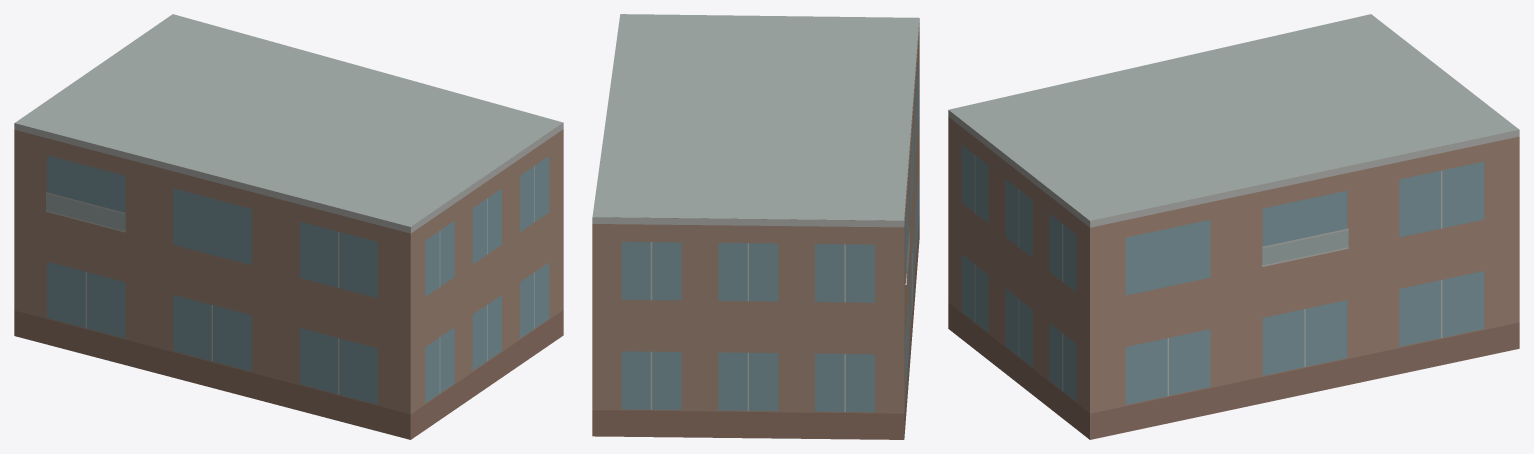
Rendered from survey-upis-33042357.glb.
The picture shows the model from 3 angles, left to right: view 1: azimuth 30°, elevation 25°; view 2: azimuth 150°, elevation 25°; view 3: azimuth 270°, elevation 25°; orthographic projection. The views are drawn at different scales.
Visible parts, largest first — view 1: survey-upis-33042357.tmp; view 2: survey-upis-33042357.tmp; view 3: survey-upis-33042357.tmp.
Part boxes in pixels (bbox=[...]): survey-upis-33042357.tmp: bbox=[14, 14, 563, 439]; survey-upis-33042357.tmp: bbox=[592, 14, 919, 439]; survey-upis-33042357.tmp: bbox=[948, 14, 1519, 439].
Size of the model in its own units: 16.03 by 7.9 by 18.69.
